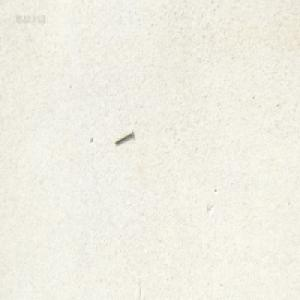Bolt: (114, 129, 133, 145)
